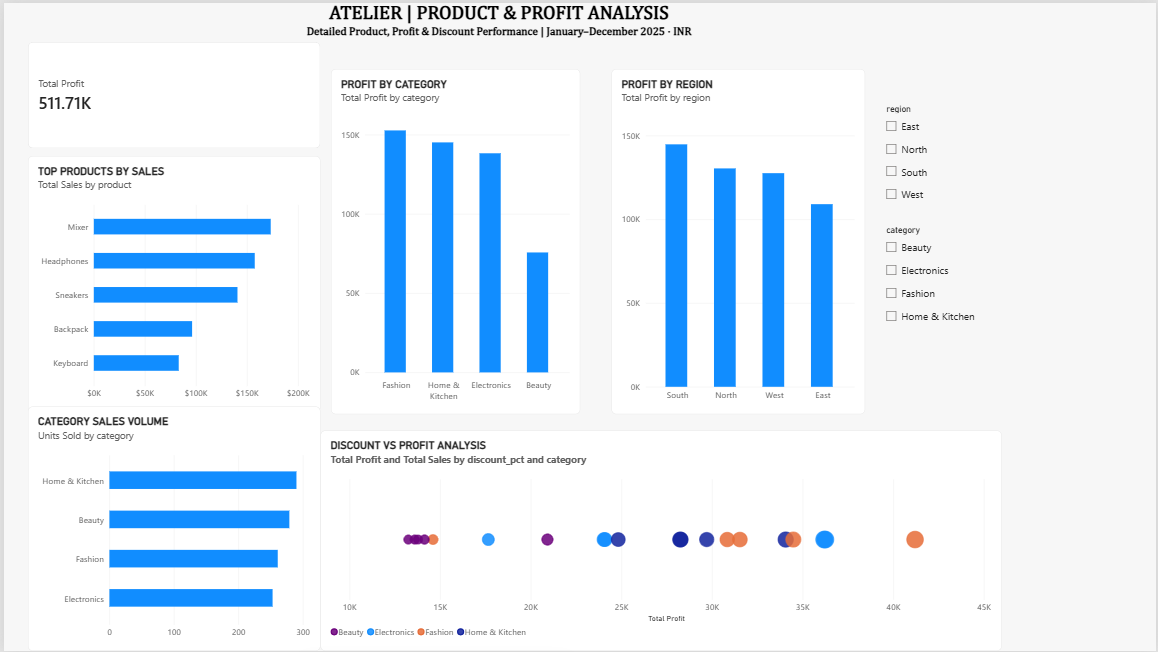

What the dashboard file says about the page in this screenshot:
{"tool":"powerbi","page":{"name":"PRODUCT & PROFIT ANALYSIS","canvas":[1920,1080],"ordinal":1},"visuals":[{"type":"cardVisual","fields":{"Data":["retail_sales.Total Profit"]},"box":[40,65,487.5,177.5],"z":0},{"type":"clusteredBarChart","title":"\tTOP PRODUCTS BY SALES","fields":{"Category":["retail_sales.product"],"Y":["retail_sales.Total Sales"]},"box":[40,255,487.5,427.5],"z":1000},{"type":"clusteredColumnChart","title":"PROFIT BY CATEGORY","fields":{"Category":["retail_sales.category"],"Y":["retail_sales.Total Profit"]},"box":[545,110,415,575],"z":2000},{"type":"barChart","title":"\tCATEGORY SALES VOLUME","fields":{"Category":["retail_sales.category"],"Y":["retail_sales.Units Sold"]},"box":[40,672.5,487.5,407.5],"z":3000},{"type":"scatterChart","title":"\tDISCOUNT VS PROFIT ANALYSIS","fields":{"Category":["retail_sales.discount_pct"],"Series":["retail_sales.category"],"Size":["retail_sales.Total Sales"],"X":["retail_sales.Total Profit"]},"box":[527.5,712.5,1135,367.5],"z":4000},{"type":"clusteredColumnChart","title":"\tPROFIT BY REGION","fields":{"Category":["retail_sales.region"],"Y":["retail_sales.Total Profit"]},"box":[1012.5,110,422.5,575],"z":5000},{"type":"slicer","fields":{"Values":["retail_sales.region"]},"box":[1462.5,167.5,135,172.5],"z":6000},{"type":"slicer","fields":{"Values":["retail_sales.category"]},"box":[1462.5,370,175,200],"z":7000},{"type":"textbox","box":[495,0,660,65],"z":8000}]}

Visuals, with their boxes in screenshot pixels (x1, y1, x2, y2), scaled from the page's 1920x1080 canvas onto the 1158x652 screenshot:
cardVisual - retail_sales.Total Profit: box=[24, 39, 318, 146]
"	TOP PRODUCTS BY SALES" clusteredBarChart: box=[24, 154, 318, 412]
"PROFIT BY CATEGORY" clusteredColumnChart: box=[329, 66, 579, 414]
"	CATEGORY SALES VOLUME" barChart: box=[24, 406, 318, 651]
"	DISCOUNT VS PROFIT ANALYSIS" scatterChart: box=[318, 430, 1003, 651]
"	PROFIT BY REGION" clusteredColumnChart: box=[611, 66, 865, 414]
slicer - retail_sales.region: box=[882, 101, 963, 205]
slicer - retail_sales.category: box=[882, 223, 988, 344]
textbox: box=[299, 0, 697, 39]
